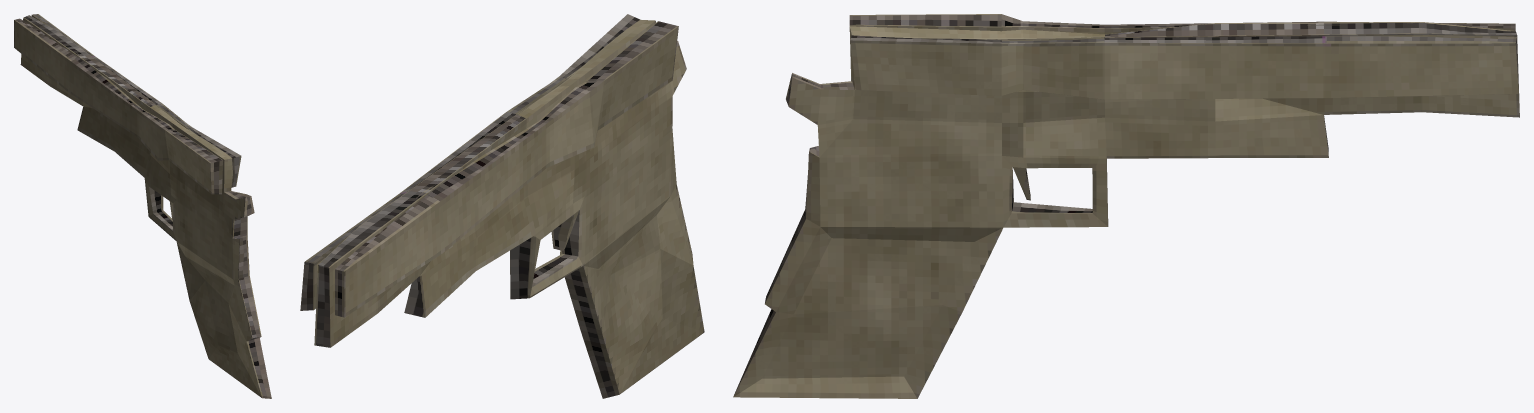
The model's file is cardboardPistol_NoUV.fbx.
3 renders of one model, left to right at view 1: azimuth 30°, elevation 25°; view 2: azimuth 150°, elevation 25°; view 3: azimuth 270°, elevation 25°, orthographic. The views are drawn at different scales.
Parts seen in each view (by area): view 1: main pistol, slider; view 2: main pistol, slider; view 3: main pistol, slider.
Part boxes in pixels (<box>): main pistol: <box>20,15,271,398</box>; slider: <box>14,14,241,194</box>; main pistol: <box>314,19,704,398</box>; slider: <box>300,14,678,317</box>; main pistol: <box>733,22,1519,398</box>; slider: <box>849,14,1518,99</box>.
Size of the model in its own units: 3.49 by 22.8 by 44.71.
